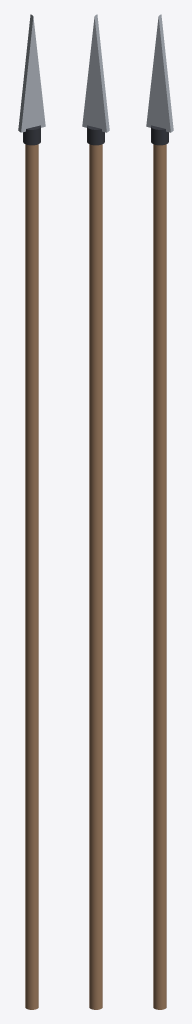
Rendered from spear.glb.
3 views of the same model, side by side, from view 1: azimuth 30°, elevation 25°; view 2: azimuth 150°, elevation 25°; view 3: azimuth 330°, elevation 25° (orthographic).
Visible parts, largest first — view 1: cyl (×2), plate; view 2: cyl (×2), plate; view 3: cyl (×2), plate.
Boxes of the visible parts, <box> form: cyl (×2): <box>23,125,40,1009</box>; plate: <box>18,14,45,132</box>; cyl (×2): <box>87,125,104,1009</box>; plate: <box>82,14,109,132</box>; cyl (×2): <box>151,125,168,1009</box>; plate: <box>146,14,173,132</box>.
Size of the model in its own units: 0.05 by 1.92 by 0.032.
